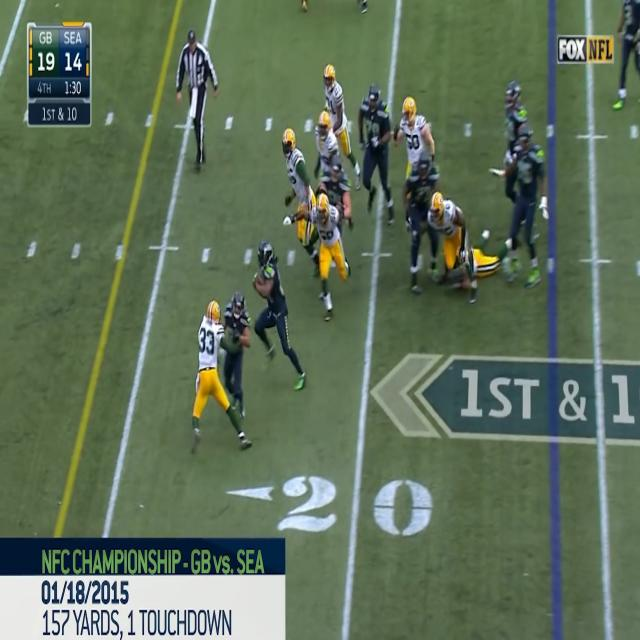football: (255, 273, 266, 292)
players: (248, 238, 306, 386), (195, 296, 248, 456), (418, 194, 489, 302), (500, 123, 545, 285), (306, 182, 352, 327), (500, 80, 539, 236), (358, 82, 398, 228), (282, 128, 320, 278), (396, 94, 434, 232), (404, 154, 443, 287), (317, 166, 355, 284), (222, 294, 250, 435), (321, 64, 352, 184), (612, 0, 640, 113), (312, 110, 341, 201)
